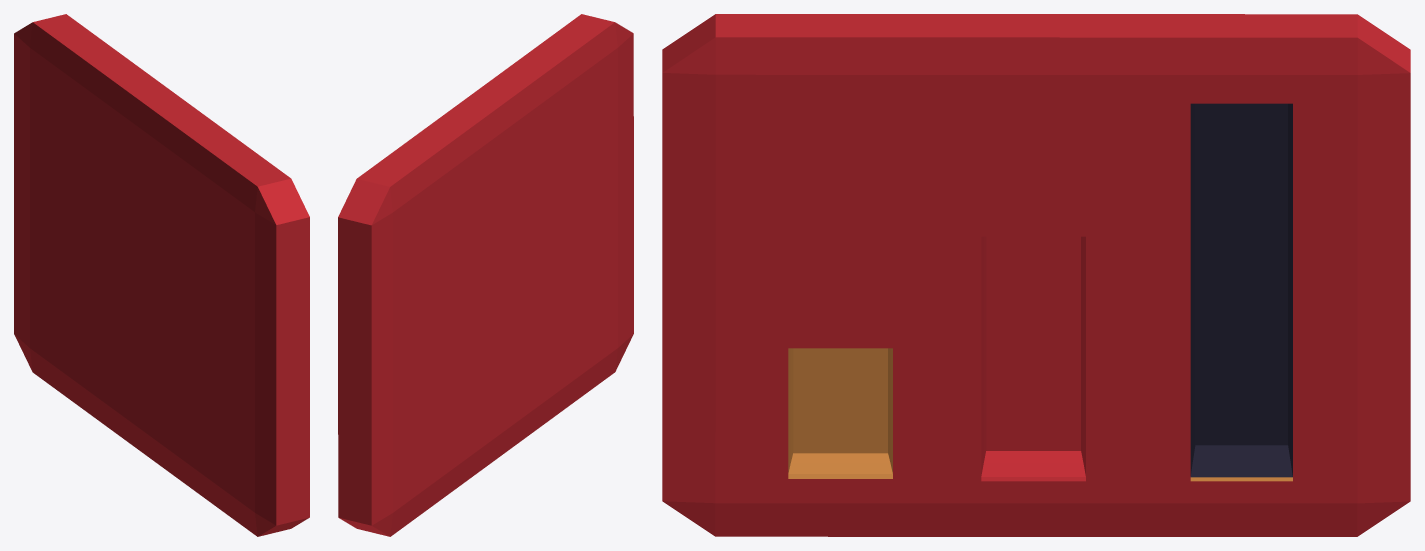
Rendered from diagram_mark.fbx.
The picture shows the model from 3 angles, left to right: view 1: azimuth 30°, elevation 25°; view 2: azimuth 150°, elevation 25°; view 3: azimuth 270°, elevation 25°; orthographic projection. The views are drawn at different scales.
Parts seen in each view (by area): view 1: Cube.001; view 2: Cube.001; view 3: Cube.001.
Boxes of the visible parts, bbox=[...] form: Cube.001: bbox=[14, 14, 309, 536]; Cube.001: bbox=[338, 14, 633, 536]; Cube.001: bbox=[662, 14, 1410, 536].
Size of the model in its own units: 6 by 51.12 by 69.39.
